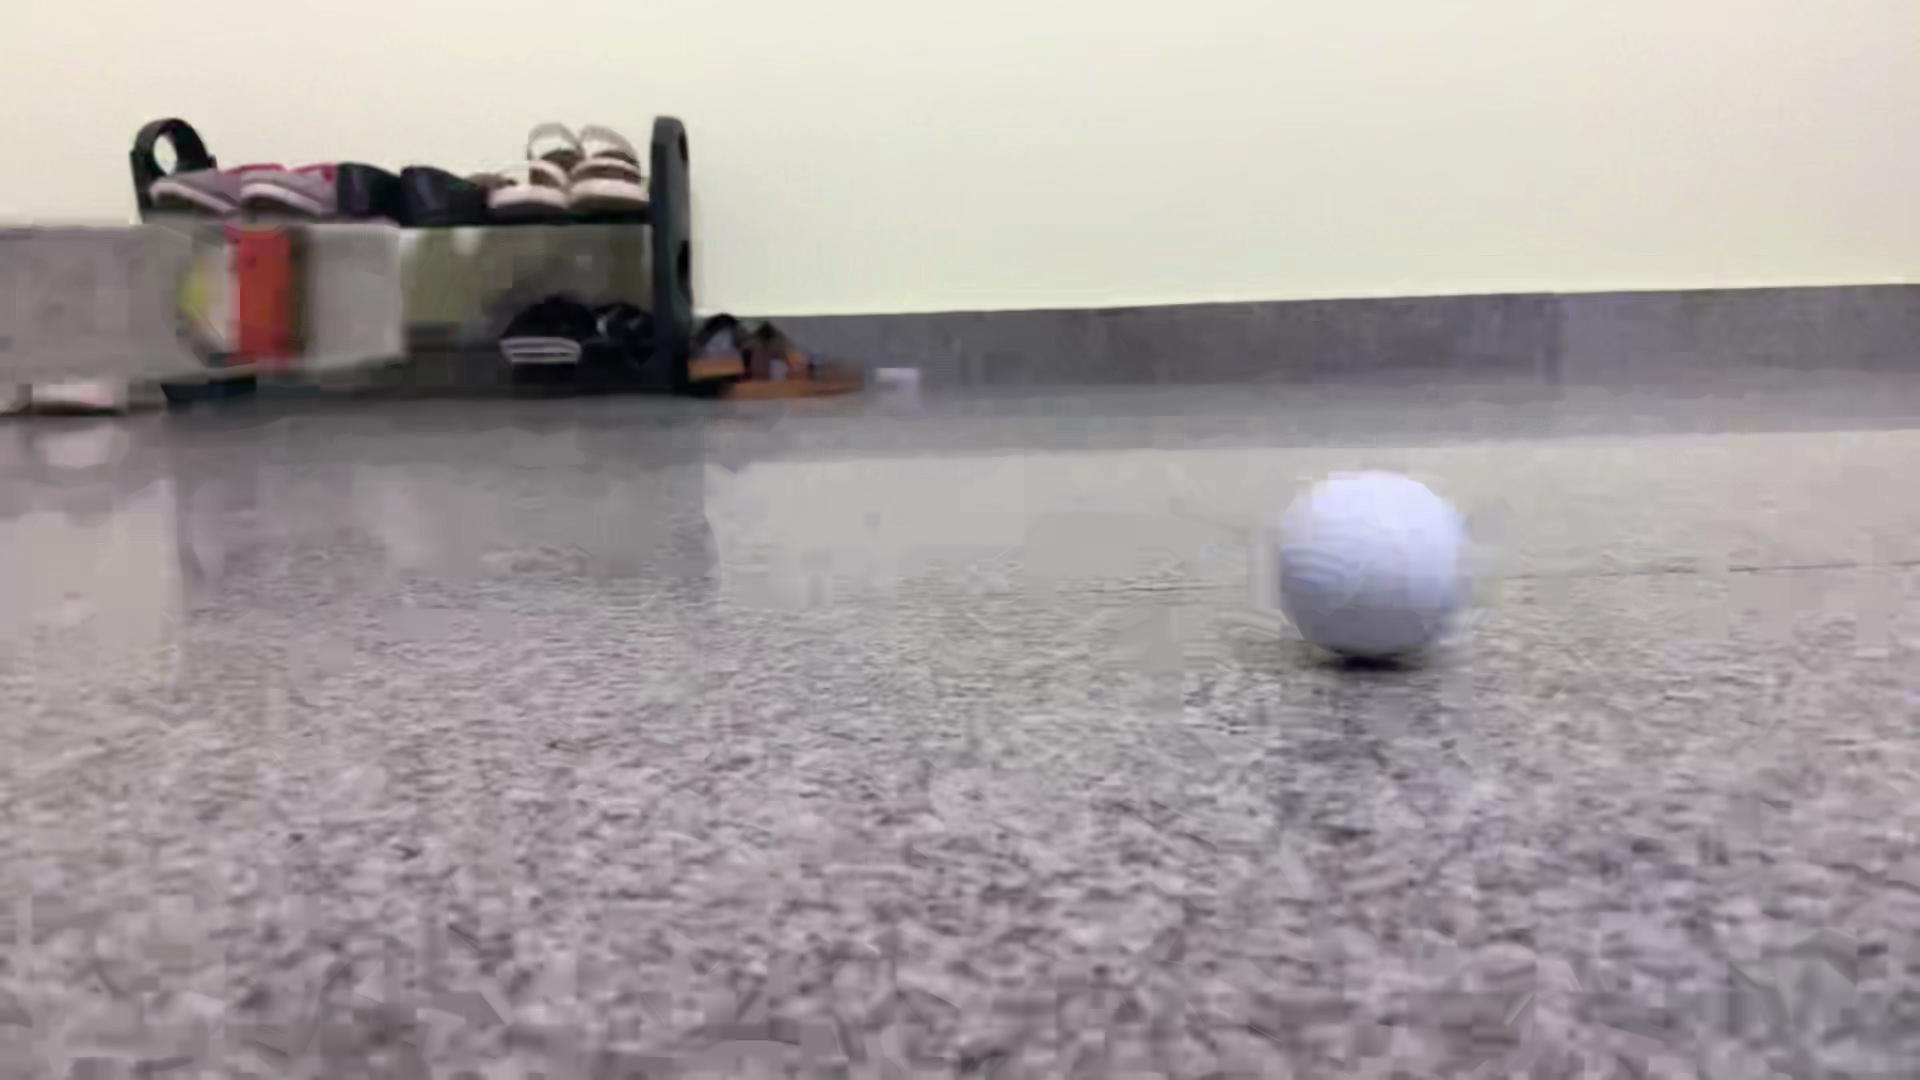golfball: (1273, 470, 1471, 663)
